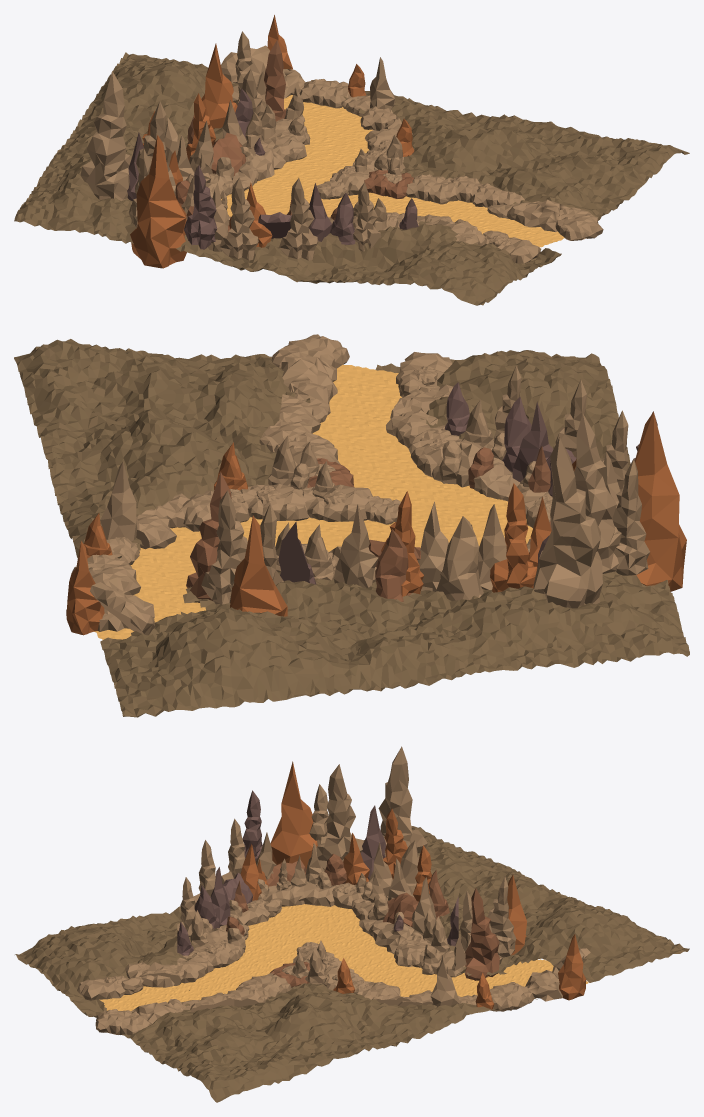
Rendered from карта2 Д.fbx.
The picture shows the model from 3 angles, top to bottom: view 1: azimuth 30°, elevation 25°; view 2: azimuth 150°, elevation 25°; view 3: azimuth 270°, elevation 25°; orthographic projection. The views are drawn at different scales.
Visible parts, largest first — view 1: Plane.007, Plane.009, высокий камень.289, Cube.485, Cube.501, Cube.502, Cube.483, высокий камень.291, Cube.515, низкий камень.832, низкий камень.808, низкий камень.822 (+34 smaller); view 2: Plane.007, Plane.009, Cube.485, высокий камень.289, Cube.482, высокий камень.291, Cube.499, Cube.484, Cube.528, Cube.498, высокий камень.294, высокий камень.283 (+46 smaller); view 3: Plane.007, Plane.009, высокий камень.289, Cube.482, Cube.485, Cube.515, Cube.528, высокий камень.294, низкий камень.832, низкий камень.822, Cube.483, Cube.484 (+27 smaller).
Boxes of the visible parts, box(x1,y1,x2,y2) form: Plane.007: box(14, 52, 689, 305); Plane.009: box(221, 95, 564, 247); высокий камень.289: box(130, 135, 186, 268); Cube.485: box(80, 71, 131, 200); Cube.501: box(279, 178, 318, 260); Cube.502: box(219, 177, 258, 260); Cube.483: box(184, 165, 217, 249); высокий камень.291: box(201, 43, 237, 128); Cube.515: box(264, 40, 286, 121); низкий камень.832: box(555, 207, 603, 240); низкий камень.808: box(406, 174, 457, 204); низкий камень.822: box(299, 79, 349, 108); Plane.007: box(14, 339, 689, 717); Plane.009: box(94, 364, 532, 639); Cube.485: box(533, 437, 602, 608); высокий камень.289: box(635, 412, 686, 591); Cube.482: box(574, 413, 621, 573); высокий камень.291: box(230, 515, 287, 616); Cube.499: box(612, 459, 649, 575); Cube.484: box(490, 483, 537, 592); Cube.528: box(201, 490, 247, 604); Cube.498: box(436, 516, 483, 600); высокий камень.294: box(66, 541, 104, 635); высокий камень.283: box(334, 504, 378, 587); Plane.007: box(15, 826, 689, 1102); Plane.009: box(99, 904, 588, 1011); высокий камень.289: box(270, 761, 317, 868); Cube.482: box(316, 764, 363, 869); Cube.485: box(378, 746, 427, 856); Cube.515: box(465, 888, 499, 980); Cube.528: box(487, 876, 516, 957); высокий камень.294: box(558, 934, 586, 1000); низкий камень.832: box(95, 1009, 149, 1035); низкий камень.822: box(490, 982, 534, 1011); Cube.483: box(242, 790, 262, 861); Cube.484: box(383, 808, 407, 879).
Bounding box in the file's own units: 30442 × 7650 × 31662.
